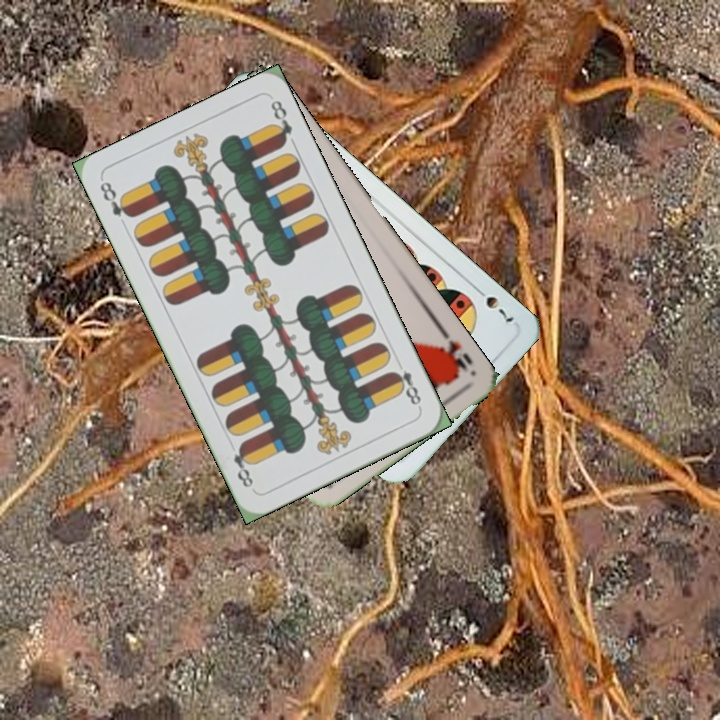E8: (387, 356, 424, 412), (95, 177, 136, 221)
HO: (434, 324, 477, 379)
S7: (470, 282, 517, 327)
